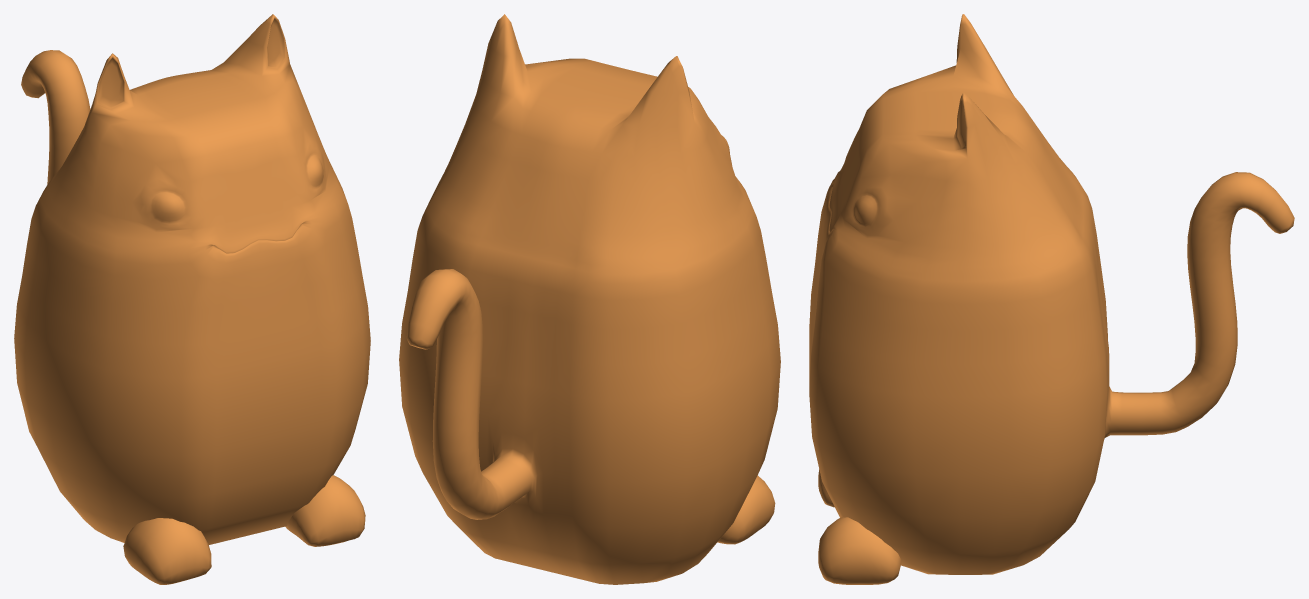
Rendered from orangeCat.fbx.
3 views of the same model, side by side, from view 1: azimuth 30°, elevation 25°; view 2: azimuth 150°, elevation 25°; view 3: azimuth 270°, elevation 25° (orthographic). The views are drawn at different scales.
Parts seen in each view (by area): view 1: pCylinder2; view 2: pCylinder2; view 3: pCylinder2.
Boxes of the visible parts, <box> form: pCylinder2: <box>14,14,370,584</box>; pCylinder2: <box>399,14,780,584</box>; pCylinder2: <box>809,14,1294,584</box>.
Bounding box in the file's own units: 9.1 × 14.23 × 12.91.
